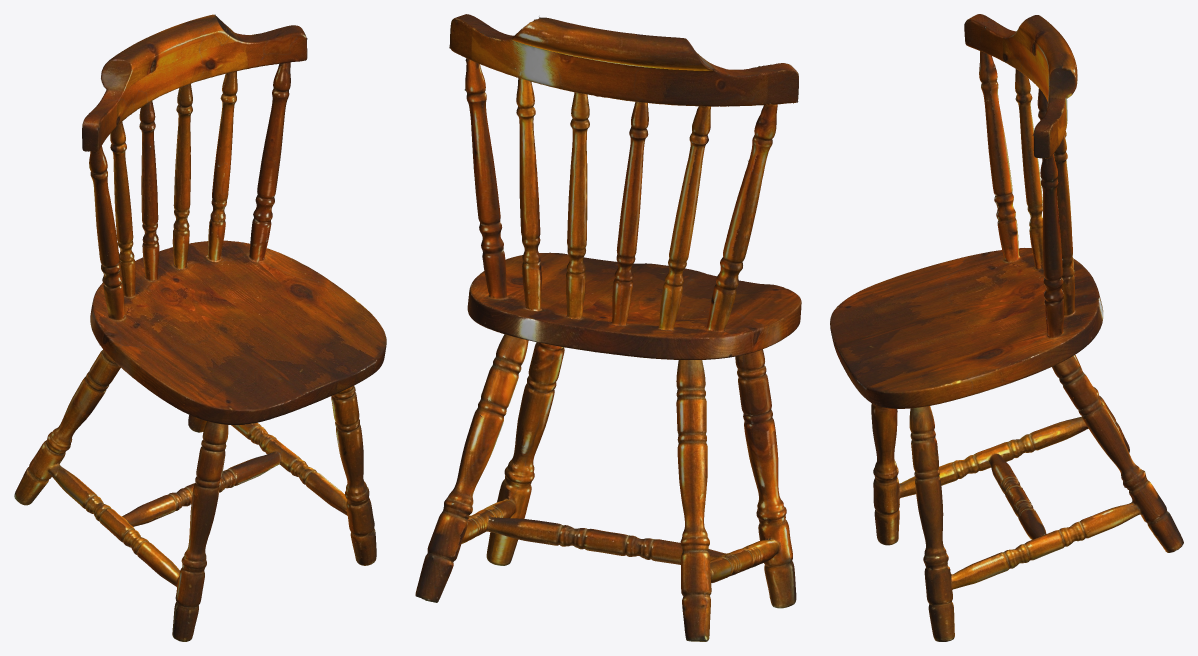
The model's file is obj_chair_obj_9d4c85.glb.
3 renders of one model, left to right at view 1: azimuth 30°, elevation 25°; view 2: azimuth 150°, elevation 25°; view 3: azimuth 270°, elevation 25°, orthographic. The views are drawn at different scales.
Visible parts, largest first — view 1: obj_chair_obj_9d4c85; view 2: obj_chair_obj_9d4c85; view 3: obj_chair_obj_9d4c85.
Boxes of the visible parts, <box> form: obj_chair_obj_9d4c85: <box>14,14,386,641</box>; obj_chair_obj_9d4c85: <box>415,14,801,641</box>; obj_chair_obj_9d4c85: <box>830,14,1183,641</box>.
Bounding box in the file's own units: 0.4629 × 0.85 × 0.5074.
1 material, 1 textured.
